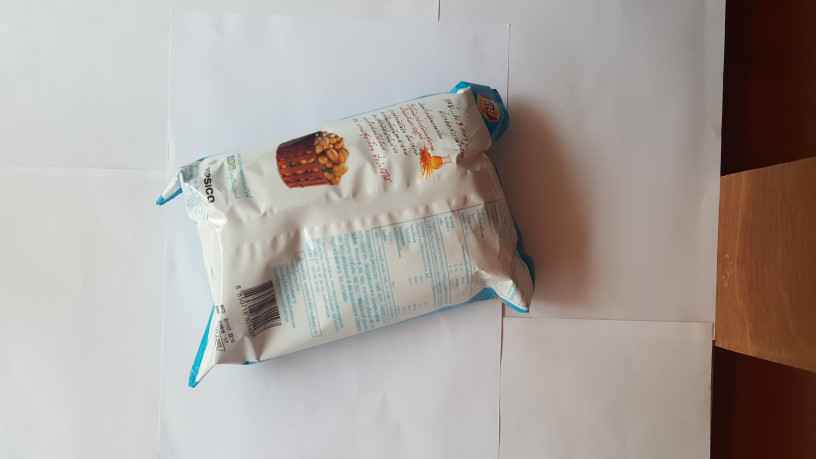lays-onion: (150, 70, 553, 402)
